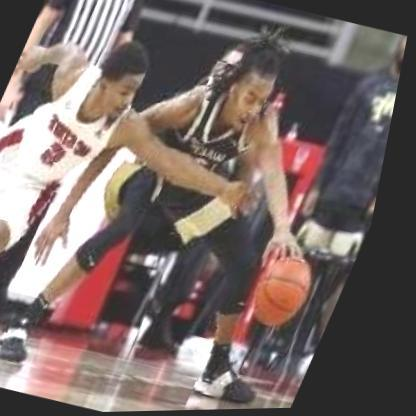basketball: (250, 244, 338, 334)
